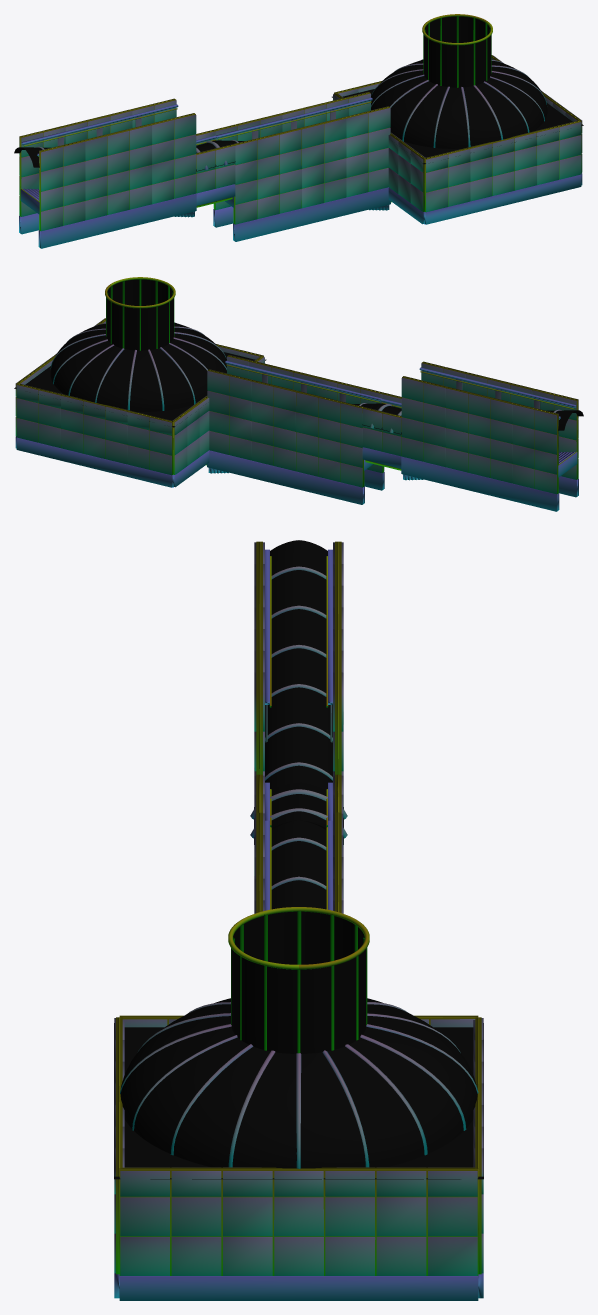
File: lowlight_well.glb
The picture shows the model from 3 angles, top to bottom: view 1: azimuth 30°, elevation 25°; view 2: azimuth 150°, elevation 25°; view 3: azimuth 270°, elevation 25°; orthographic projection. The views are drawn at different scales.
Visible parts, largest first — view 1: lowlight_well; view 2: lowlight_well; view 3: lowlight_well.
Boxes of the visible parts, x1,y1,x2,y2 form: lowlight_well: (14, 14, 583, 248); lowlight_well: (14, 277, 583, 511); lowlight_well: (114, 540, 483, 1300).
Size of what is drawn, in the model's own units: 52.88 by 15.27 by 16.48.
